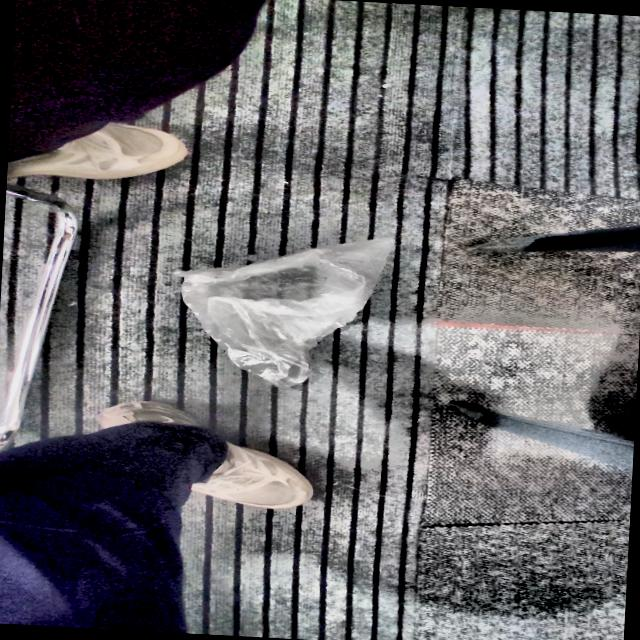plastic bag: (179, 238, 394, 388)
